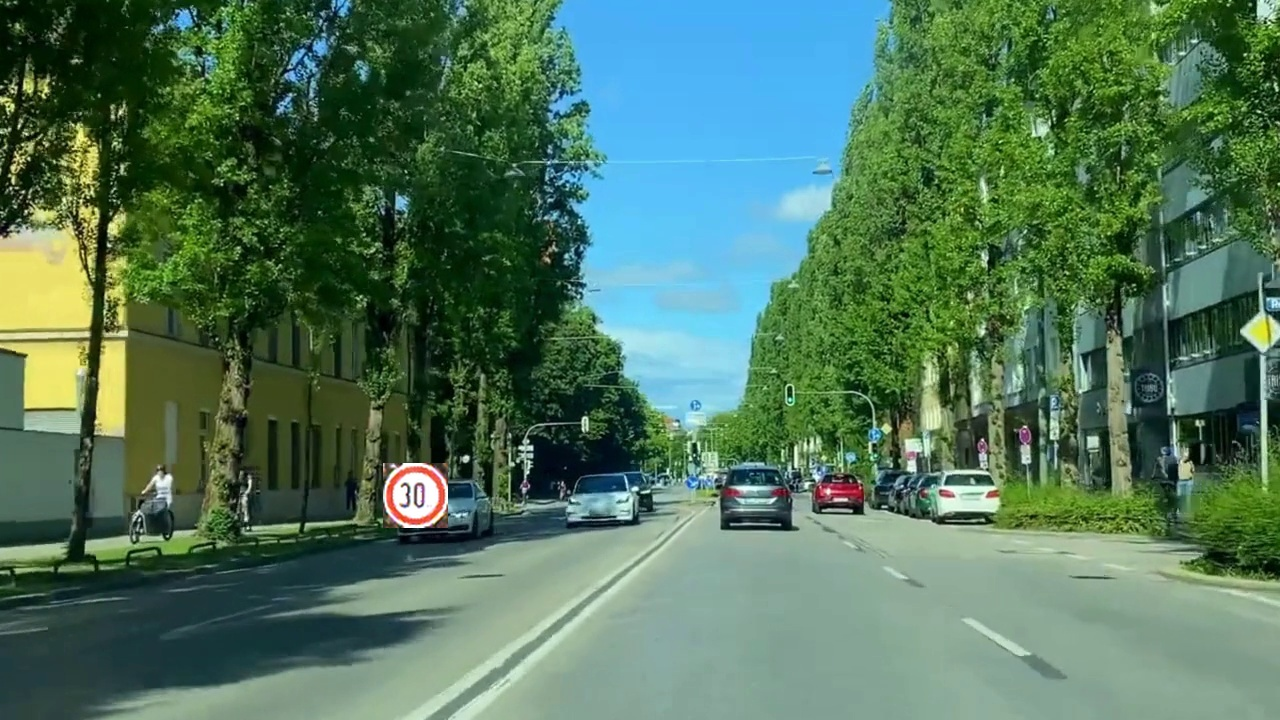Speed 30: (383, 463, 448, 528)
